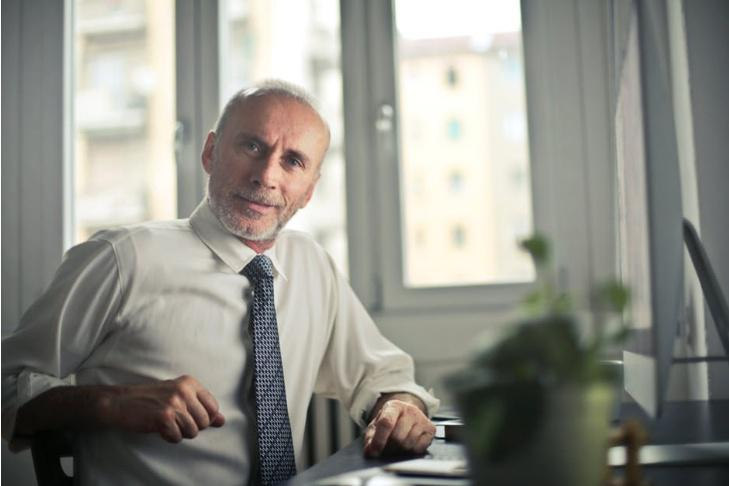face: (216, 92, 324, 239)
